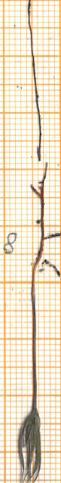flower: (11, 409, 52, 483)
root: (23, 0, 61, 265)
stem: (25, 264, 43, 408)
